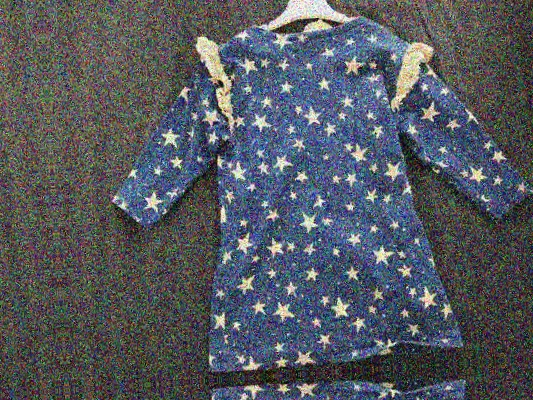Dress: (94, 0, 533, 383), (121, 363, 533, 400), (0, 12, 13, 400), (0, 399, 39, 400)
